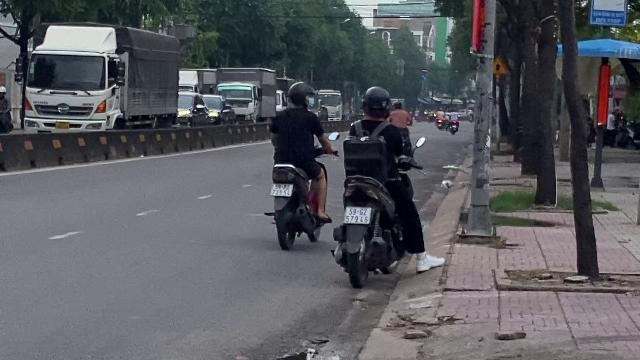helmet: (360, 86, 392, 118), (285, 82, 313, 108)
licenseplate: (344, 206, 371, 222), (270, 184, 292, 197)
motorcyclist: (332, 84, 426, 284), (263, 81, 333, 249)
